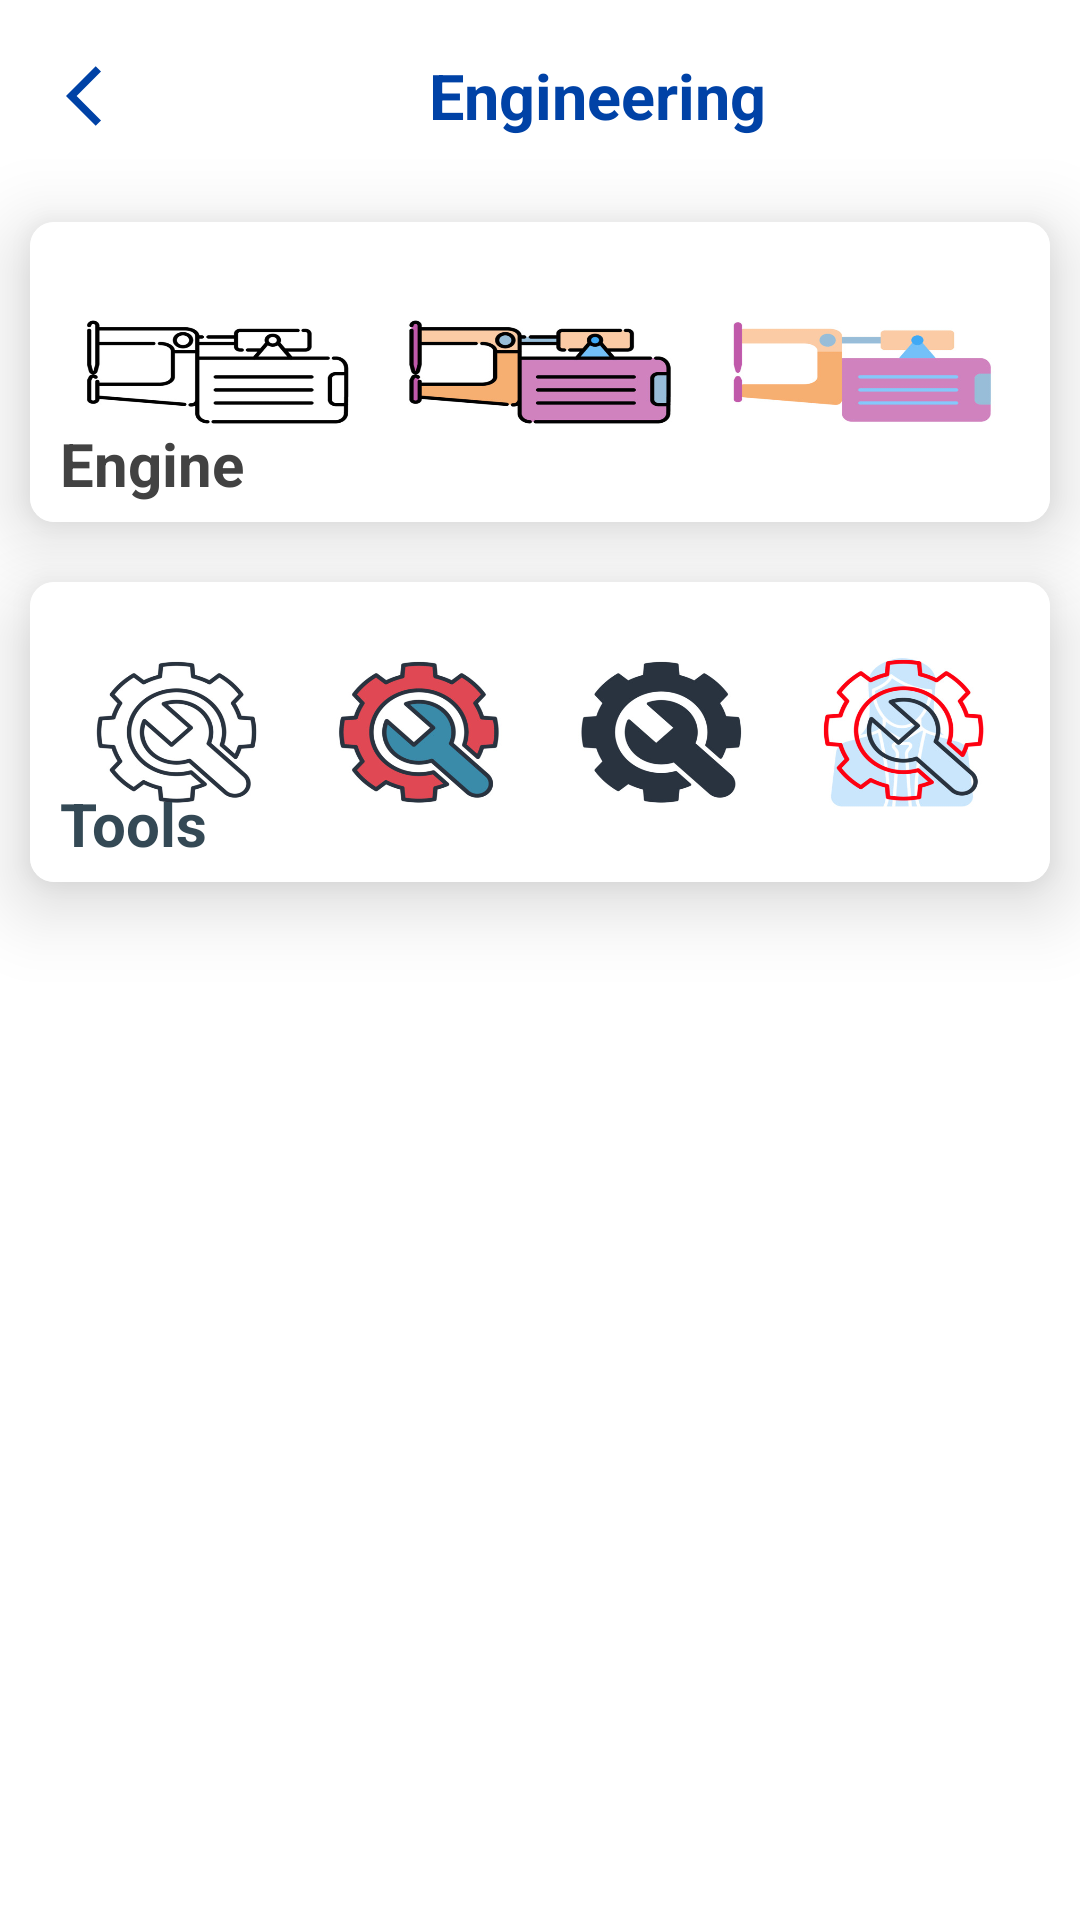

Named icons in this screenshot (1080 × 1920) and their centers, point (x, y):
back: point (83, 96)
